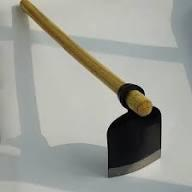HOUE: (0, 0, 182, 188)
